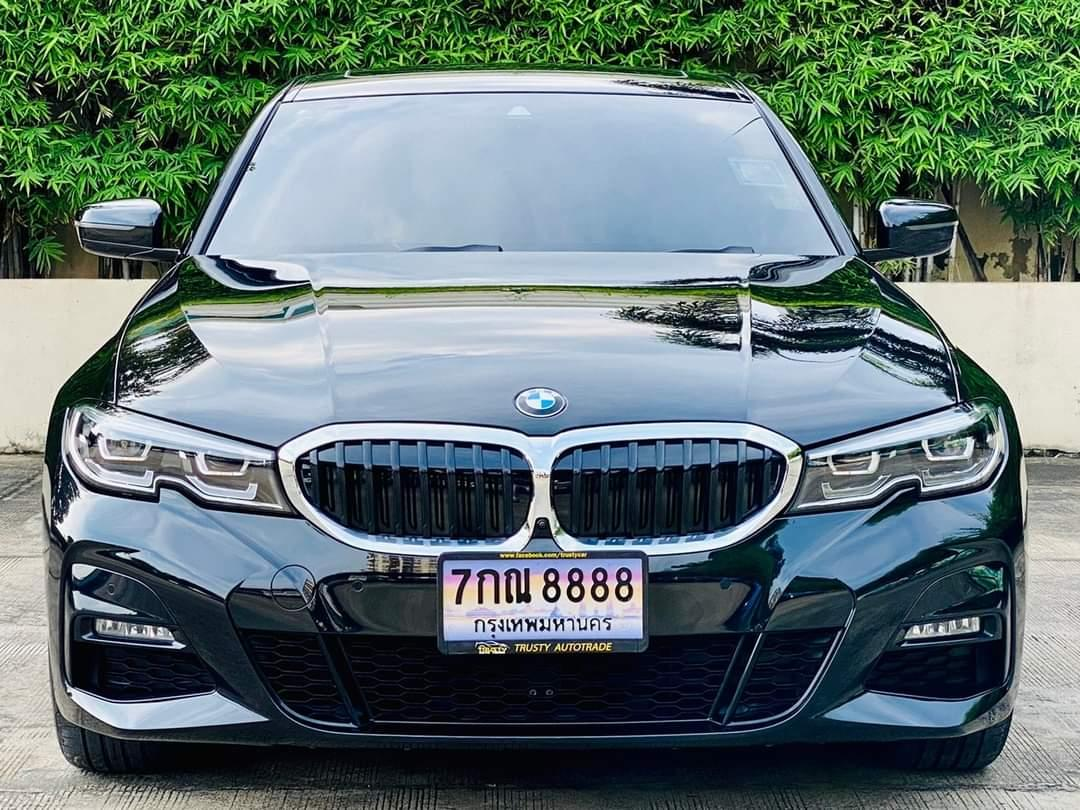license-plate: (438, 554, 653, 657)
